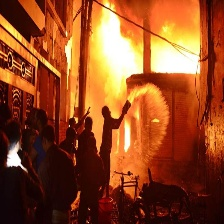fire: (98, 6, 140, 76), (149, 43, 205, 71)
